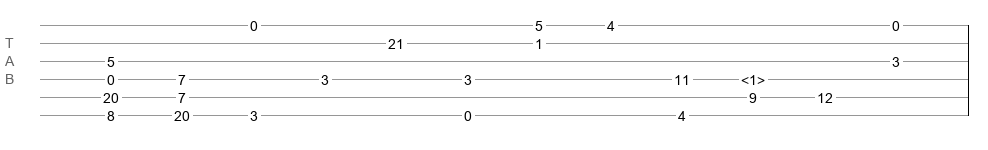0: (107, 72, 115, 82), (250, 18, 258, 28), (464, 108, 472, 118), (892, 18, 900, 28)
1: (535, 36, 543, 46)
11: (674, 72, 690, 82)
12: (817, 90, 833, 100)
20: (103, 90, 119, 100), (174, 108, 190, 118)
21: (388, 36, 404, 46)
3: (250, 108, 258, 118), (321, 72, 329, 82), (464, 72, 472, 82), (892, 54, 900, 64)
4: (607, 18, 615, 28), (678, 108, 686, 118)
5: (107, 54, 115, 64), (535, 18, 543, 28)
7: (178, 90, 186, 100), (178, 72, 186, 82)
8: (107, 108, 115, 118)
9: (749, 90, 757, 100)
harmonic: (741, 72, 765, 82)
